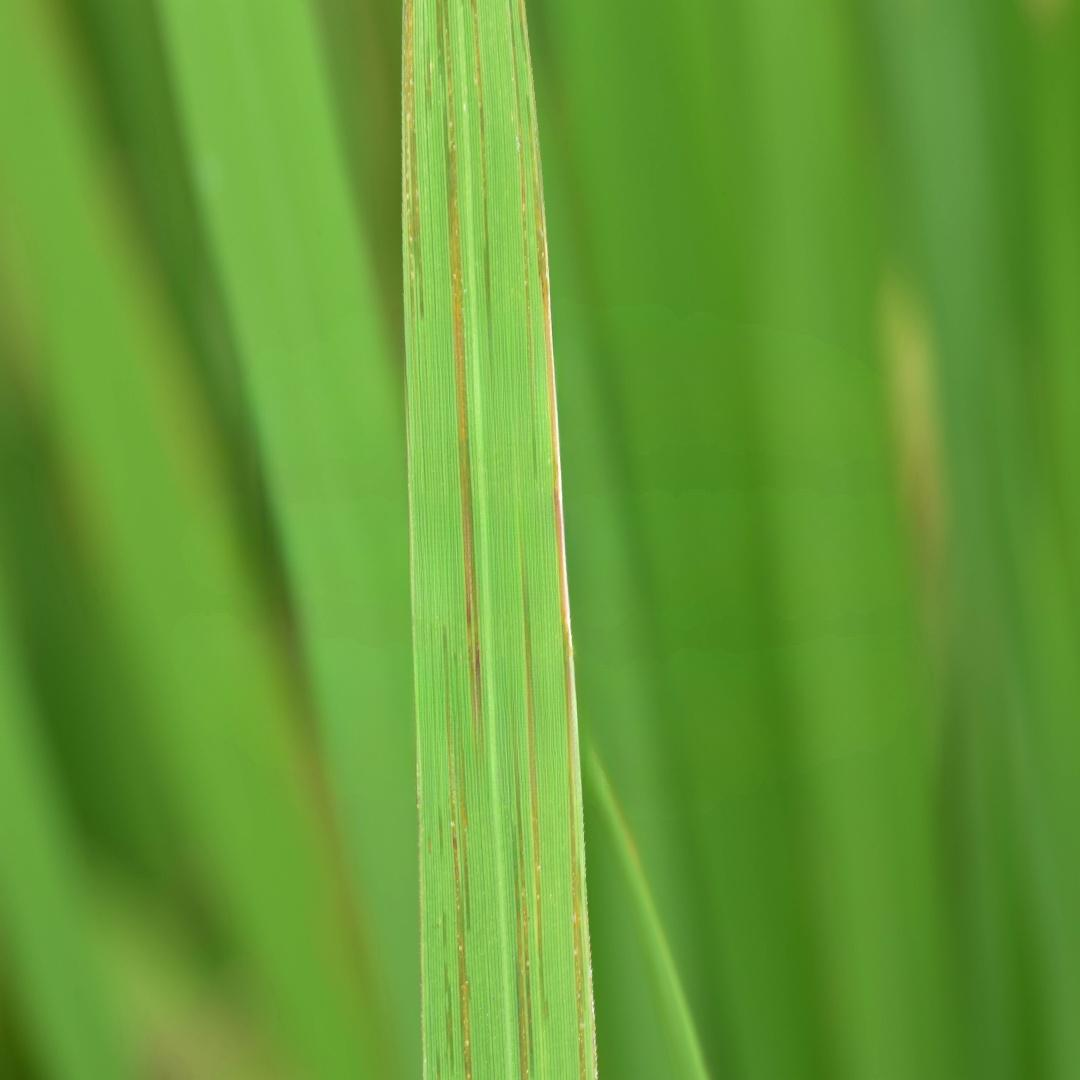BLS: (518, 0, 598, 1079), (443, 0, 480, 729), (442, 626, 472, 1079), (509, 0, 531, 390), (523, 561, 543, 949), (471, 0, 492, 361), (403, 0, 424, 320), (516, 732, 534, 1078), (514, 826, 528, 1079), (459, 722, 470, 932), (436, 0, 444, 77), (426, 49, 432, 110)
LEAF: (403, 0, 599, 1079)
